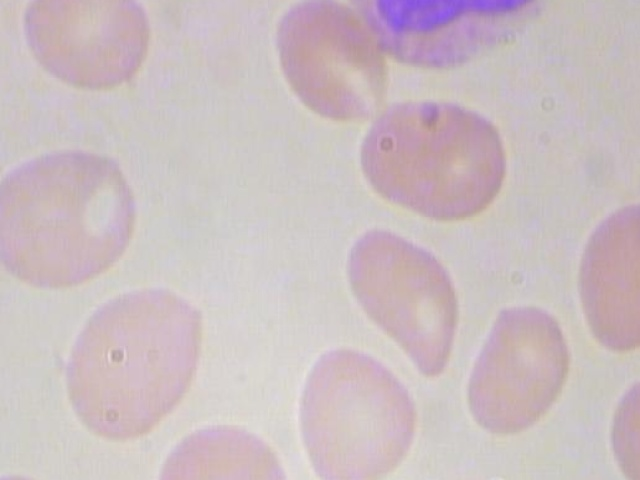RBC: (44, 276, 209, 447), (0, 137, 153, 290), (348, 94, 521, 223), (332, 222, 464, 383), (457, 288, 581, 447), (285, 339, 417, 480), (271, 0, 392, 128), (18, 0, 157, 92), (154, 418, 293, 480), (0, 466, 87, 480)
WBC: (316, 0, 614, 69)
